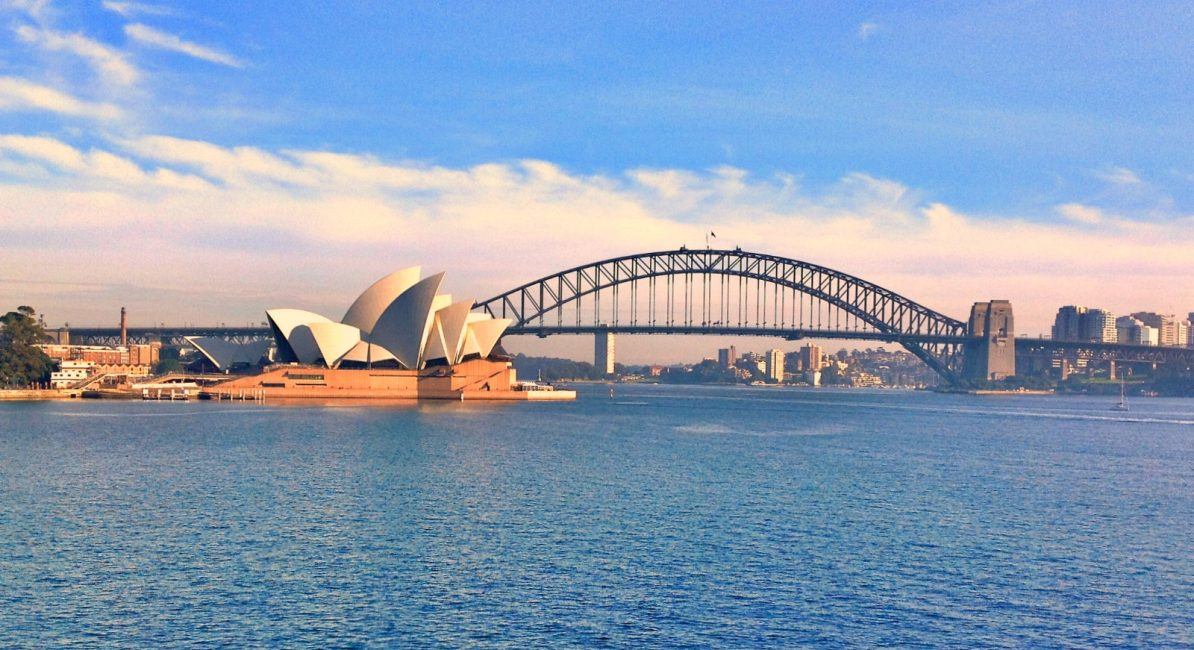opera house: (201, 255, 568, 416)
